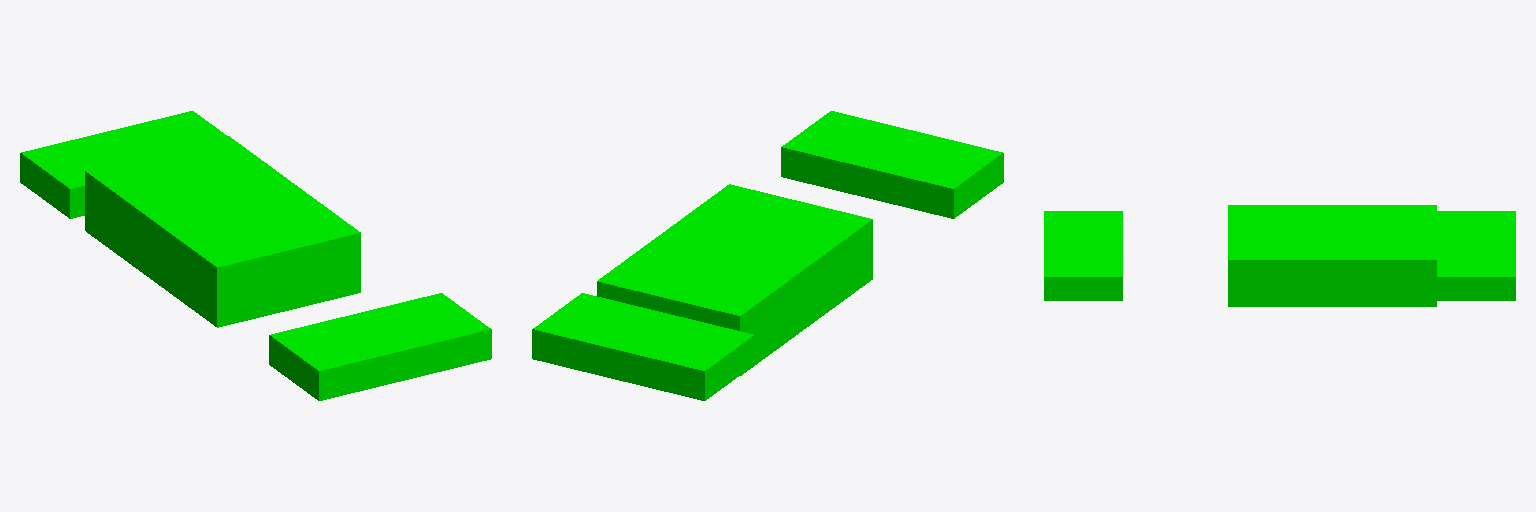
URDF robot description (robot):
<robot name = "robot">
    <link name="root">
        <inertial>
            <origin xyz="0.0 0.0 1.5" rpy="0 0 0"/>
            <mass value="1" />
            <inertia ixx="100" ixy="0" ixz="0" iyy="100" iyz="0" izz="100" />
        </inertial>
        <visual>
            <origin xyz="0.0 0.0 1.5" rpy="0 0 0"/>
            <geometry>
                <box size="0 0 0.0001" />
            </geometry>
            <material name="Green">
                <color rgba="0 1.0 0.0 1.0"/>
            </material>
        </visual>
        <collision>
            <origin xyz="0.0 0.0 1.5" rpy="0 0 0"/>
            <geometry>
                <box size="0 0 0.0001" />
            </geometry>
        </collision>
    </link>
    <joint name="root_000" type="revolute">
       <parent link="root"/>
       <child  link="000"/>
       <origin rpy="0 0 0" xyz="0.0 0.0 1.5" />
     <axis xyz="1 0 0"/>
       <limit effort="0.0" lower="-3.14159" upper="3.14159" velocity="0.0"/>
    </joint>
    <link name="000">
        <inertial>
            <origin xyz="0.0 0.2 0.0" rpy="0 0 0"/>
            <mass value="1" />
            <inertia ixx="100" ixy="0" ixz="0" iyy="100" iyz="0" izz="100" />
        </inertial>
        <visual>
            <origin xyz="0.0 0.2 0.0" rpy="0 0 0"/>
            <geometry>
                <box size="0.5 0.4 0.2" />
            </geometry>
            <material name="Green">
                <color rgba="0 1.0 0.0 1.0"/>
            </material>
        </visual>
        <collision>
            <origin xyz="0.0 0.2 0.0" rpy="0 0 0"/>
            <geometry>
                <box size="0.5 0.4 0.2" />
            </geometry>
        </collision>
    </link>
    <joint name="000_010" type="revolute">
       <parent link="000"/>
       <child  link="010"/>
       <origin rpy="0 0 0" xyz="0.0 0.4 -0.0" />
     <axis xyz="0 1 0"/>
       <limit effort="0.0" lower="-3.14159" upper="3.14159" velocity="0.0"/>
    </joint>
    <link name="010">
        <inertial>
            <origin xyz="0.0 0.2 -0.0" rpy="0 0 0"/>
            <mass value="1" />
            <inertia ixx="100" ixy="0" ixz="0" iyy="100" iyz="0" izz="100" />
        </inertial>
        <visual>
            <origin xyz="0.0 0.2 -0.0" rpy="0 0 0"/>
            <geometry>
                <box size="0.5 0.4 0.2" />
            </geometry>
            <material name="Green">
                <color rgba="0 1.0 0.0 1.0"/>
            </material>
        </visual>
        <collision>
            <origin xyz="0.0 0.2 -0.0" rpy="0 0 0"/>
            <geometry>
                <box size="0.5 0.4 0.2" />
            </geometry>
        </collision>
    </link>
    <joint name="010_010-100" type="revolute">
       <parent link="010"/>
       <child  link="010-100"/>
       <origin rpy="0 0 0" xyz="0.0 0.4 -0.0" />
     <axis xyz="0 1 0"/>
       <limit effort="0.0" lower="-3.14159" upper="3.14159" velocity="0.0"/>
    </joint>
    <link name="010-100">
        <inertial>
            <origin xyz="0.0 0.05 -0.0" rpy="0 0 0"/>
            <mass value="1" />
            <inertia ixx="100" ixy="0" ixz="0" iyy="100" iyz="0" izz="100" />
        </inertial>
        <visual>
            <origin xyz="0.0 0.05 -0.0" rpy="0 0 0"/>
            <geometry>
                <box size="0.6 0.1 0.1" />
            </geometry>
            <material name="Green">
                <color rgba="0 1.0 0.0 1.0"/>
            </material>
        </visual>
        <collision>
            <origin xyz="0.0 0.05 -0.0" rpy="0 0 0"/>
            <geometry>
                <box size="0.6 0.1 0.1" />
            </geometry>
        </collision>
    </link>
    <joint name="010-100_010-110" type="revolute">
       <parent link="010-100"/>
       <child  link="010-110"/>
       <origin rpy="0 0 0" xyz="0.0 0.1 -0.0" />
     <axis xyz="0 1 0"/>
       <limit effort="0.0" lower="-3.14159" upper="3.14159" velocity="0.0"/>
    </joint>
    <link name="010-110">
        <inertial>
            <origin xyz="0.0 0.05 -0.0" rpy="0 0 0"/>
            <mass value="1" />
            <inertia ixx="100" ixy="0" ixz="0" iyy="100" iyz="0" izz="100" />
        </inertial>
        <visual>
            <origin xyz="0.0 0.05 -0.0" rpy="0 0 0"/>
            <geometry>
                <box size="0.6 0.1 0.1" />
            </geometry>
            <material name="Green">
                <color rgba="0 1.0 0.0 1.0"/>
            </material>
        </visual>
        <collision>
            <origin xyz="0.0 0.05 -0.0" rpy="0 0 0"/>
            <geometry>
                <box size="0.6 0.1 0.1" />
            </geometry>
        </collision>
    </link>
    <joint name="010-110_010-120" type="revolute">
       <parent link="010-110"/>
       <child  link="010-120"/>
       <origin rpy="0 0 0" xyz="0.0 0.1 -0.0" />
     <axis xyz="0 1 0"/>
       <limit effort="0.0" lower="-3.14159" upper="3.14159" velocity="0.0"/>
    </joint>
    <link name="010-120">
        <inertial>
            <origin xyz="0.0 0.05 -0.0" rpy="0 0 0"/>
            <mass value="1" />
            <inertia ixx="100" ixy="0" ixz="0" iyy="100" iyz="0" izz="100" />
        </inertial>
        <visual>
            <origin xyz="0.0 0.05 -0.0" rpy="0 0 0"/>
            <geometry>
                <box size="0.6 0.1 0.1" />
            </geometry>
            <material name="Green">
                <color rgba="0 1.0 0.0 1.0"/>
            </material>
        </visual>
        <collision>
            <origin xyz="0.0 0.05 -0.0" rpy="0 0 0"/>
            <geometry>
                <box size="0.6 0.1 0.1" />
            </geometry>
        </collision>
    </link>
    <joint name="000_000-101" type="revolute">
       <parent link="000"/>
       <child  link="000-101"/>
       <origin rpy="0 0 0" xyz="0.0 -0.4 -0.0" />
     <axis xyz="0 1 0"/>
       <limit effort="0.0" lower="-3.14159" upper="3.14159" velocity="0.0"/>
    </joint>
    <link name="000-101">
        <inertial>
            <origin xyz="0.0 -0.05 -0.0" rpy="0 0 0"/>
            <mass value="1" />
            <inertia ixx="100" ixy="0" ixz="0" iyy="100" iyz="0" izz="100" />
        </inertial>
        <visual>
            <origin xyz="0.0 -0.05 -0.0" rpy="0 0 0"/>
            <geometry>
                <box size="0.6 0.1 0.1" />
            </geometry>
            <material name="Green">
                <color rgba="0 1.0 0.0 1.0"/>
            </material>
        </visual>
        <collision>
            <origin xyz="0.0 -0.05 -0.0" rpy="0 0 0"/>
            <geometry>
                <box size="0.6 0.1 0.1" />
            </geometry>
        </collision>
    </link>
    <joint name="000-101_000-111" type="revolute">
       <parent link="000-101"/>
       <child  link="000-111"/>
       <origin rpy="0 0 0" xyz="0.0 -0.1 -0.0" />
     <axis xyz="0 1 0"/>
       <limit effort="0.0" lower="-3.14159" upper="3.14159" velocity="0.0"/>
    </joint>
    <link name="000-111">
        <inertial>
            <origin xyz="0.0 -0.05 -0.0" rpy="0 0 0"/>
            <mass value="1" />
            <inertia ixx="100" ixy="0" ixz="0" iyy="100" iyz="0" izz="100" />
        </inertial>
        <visual>
            <origin xyz="0.0 -0.05 -0.0" rpy="0 0 0"/>
            <geometry>
                <box size="0.6 0.1 0.1" />
            </geometry>
            <material name="Green">
                <color rgba="0 1.0 0.0 1.0"/>
            </material>
        </visual>
        <collision>
            <origin xyz="0.0 -0.05 -0.0" rpy="0 0 0"/>
            <geometry>
                <box size="0.6 0.1 0.1" />
            </geometry>
        </collision>
    </link>
    <joint name="000-111_000-121" type="revolute">
       <parent link="000-111"/>
       <child  link="000-121"/>
       <origin rpy="0 0 0" xyz="0.0 -0.1 -0.0" />
     <axis xyz="0 1 0"/>
       <limit effort="0.0" lower="-3.14159" upper="3.14159" velocity="0.0"/>
    </joint>
    <link name="000-121">
        <inertial>
            <origin xyz="0.0 -0.05 -0.0" rpy="0 0 0"/>
            <mass value="1" />
            <inertia ixx="100" ixy="0" ixz="0" iyy="100" iyz="0" izz="100" />
        </inertial>
        <visual>
            <origin xyz="0.0 -0.05 -0.0" rpy="0 0 0"/>
            <geometry>
                <box size="0.6 0.1 0.1" />
            </geometry>
            <material name="Green">
                <color rgba="0 1.0 0.0 1.0"/>
            </material>
        </visual>
        <collision>
            <origin xyz="0.0 -0.05 -0.0" rpy="0 0 0"/>
            <geometry>
                <box size="0.6 0.1 0.1" />
            </geometry>
        </collision>
    </link>
</robot>

--- Facts derived from the render (not from the file) ---
3 views of the same robot in one strip: view 1: azimuth 30°, elevation 25°; view 2: azimuth 150°, elevation 25°; view 3: azimuth 270°, elevation 25° (orthographic).
Robot: robot — 9 links, 8 joints (8 revolute); root link root; default pose: all joints at 0.
Visible links, largest first — view 1: 000, 010, 000-121, 010-110, 010-120, 000-101, 000-111, 010-100; view 2: 010, 000, 010-120, 000-101, 010-100, 000-111, 000-121, 010-110; view 3: 010, 000, 010-120, 000-121, 010-100, 010-110, 000-101, 000-111.
Link boxes in pixels (x1,y1,x2,y2): 000: [151, 184, 360, 327]; 010: [85, 136, 293, 278]; 000-121: [303, 317, 491, 400]; 010-110: [37, 123, 224, 206]; 010-120: [20, 111, 208, 193]; 000-101: [269, 293, 457, 376]; 000-111: [286, 305, 473, 388]; 010-100: [54, 135, 226, 218]; 010: [597, 233, 806, 375]; 000: [663, 184, 872, 326]; 010-120: [532, 317, 720, 400]; 000-101: [781, 135, 969, 218]; 010-100: [566, 293, 754, 376]; 000-111: [799, 123, 986, 206]; 000-121: [815, 111, 1003, 193]; 010-110: [550, 305, 737, 388]; 010: [1332, 205, 1436, 306]; 000: [1228, 205, 1331, 306]; 010-120: [1489, 211, 1515, 300]; 000-121: [1044, 211, 1070, 300]; 010-100: [1437, 211, 1462, 300]; 010-110: [1463, 211, 1488, 300]; 000-101: [1097, 211, 1122, 300]; 000-111: [1071, 211, 1096, 300].
Size in the robot's own frame: 0.6 by 1.8 by 0.2 metres.
Geometry: primitives only (box / cylinder / sphere), no mesh files.
